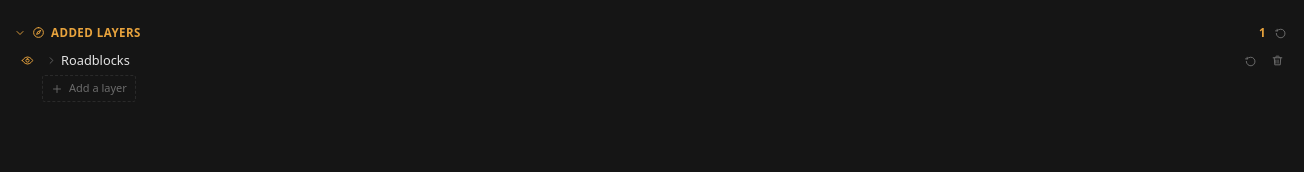
a row › links a followed map back to the page it was published on
Click the button with class "fold": (95, 60) 46,49 -> 1236,72
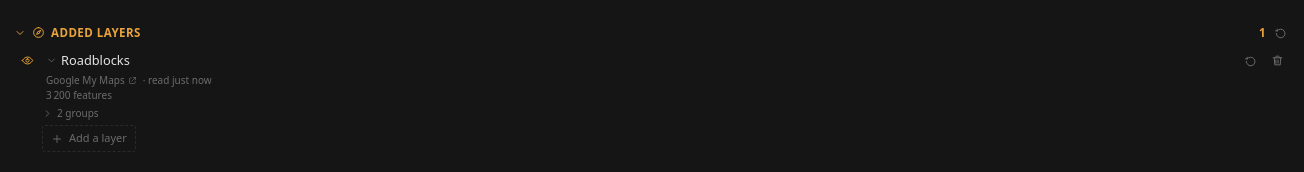
Now the link with class "from" reads "Google My Maps", box 46,73 -> 137,88
